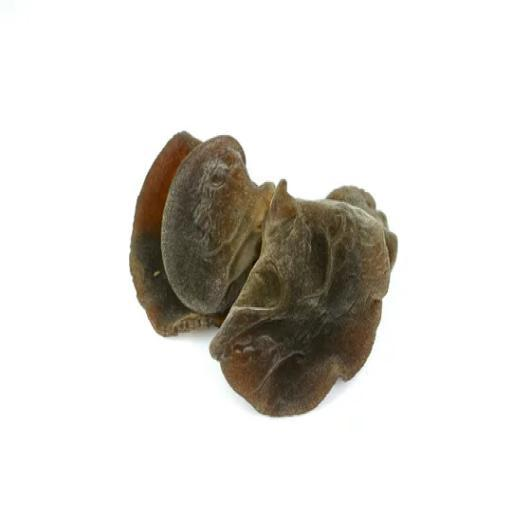mushroom: (123, 120, 403, 424)
